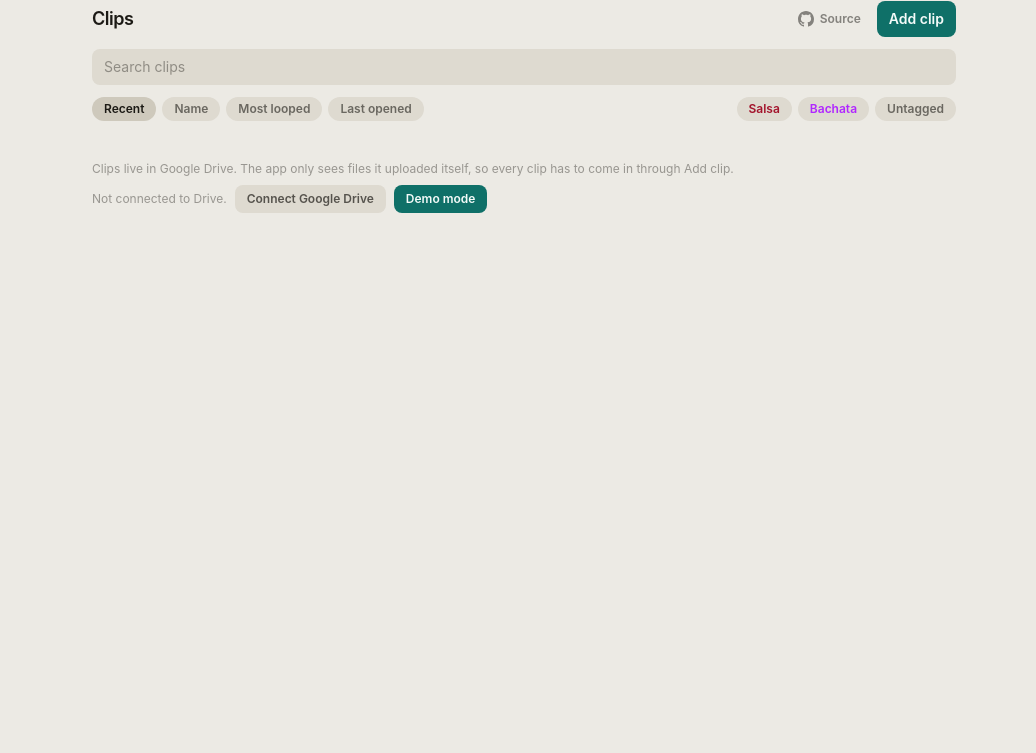
Test: going into the demo › shows a gallery holding only the demo clip
Click the link "Demo mode".
click(441, 199)  # box x1=394 y1=185 x2=487 y2=213
(page scrolled)
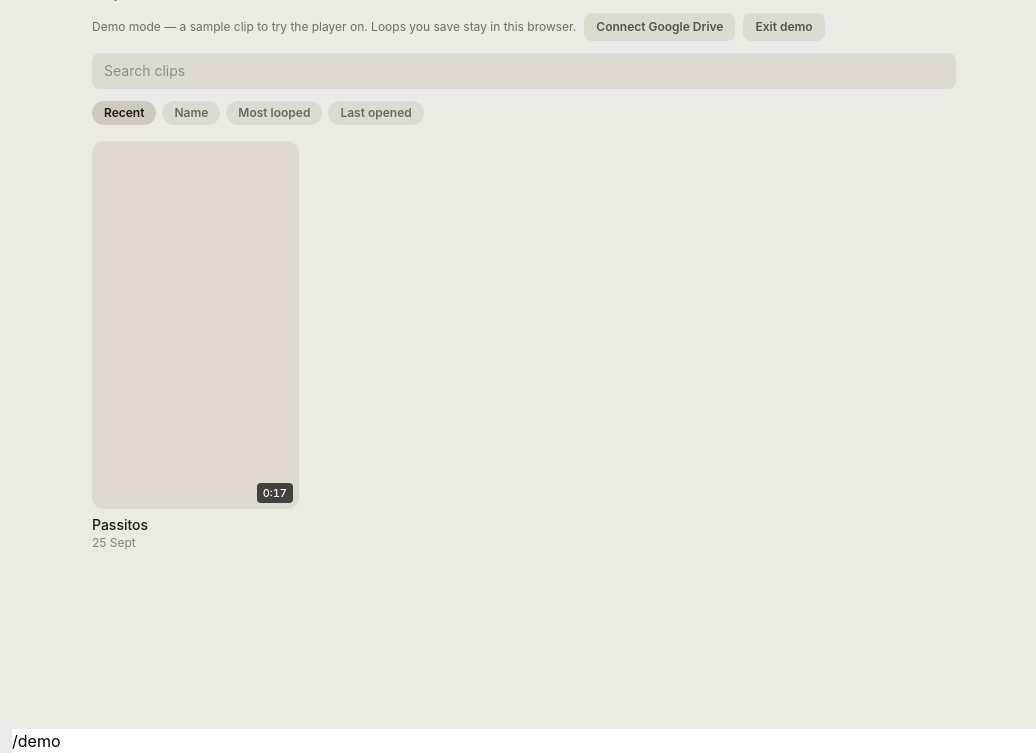
Now the text with test id "where" reads "/demo", box x1=12 y1=731 x2=60 y2=751
Now the number of list items is 1, box x1=92 y1=141 x2=299 y2=551
